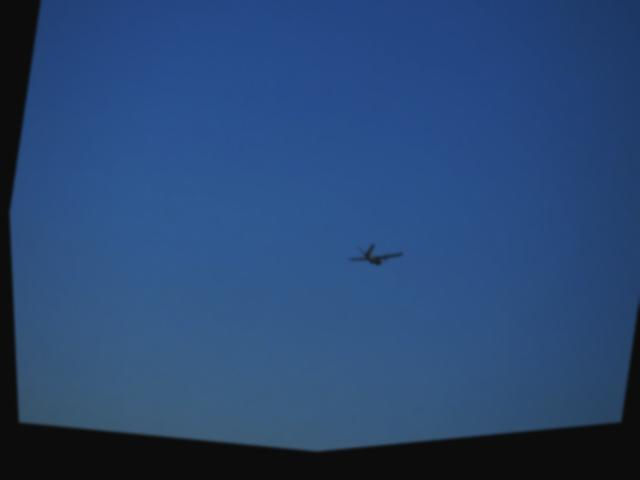plane: (346, 245, 403, 281)
